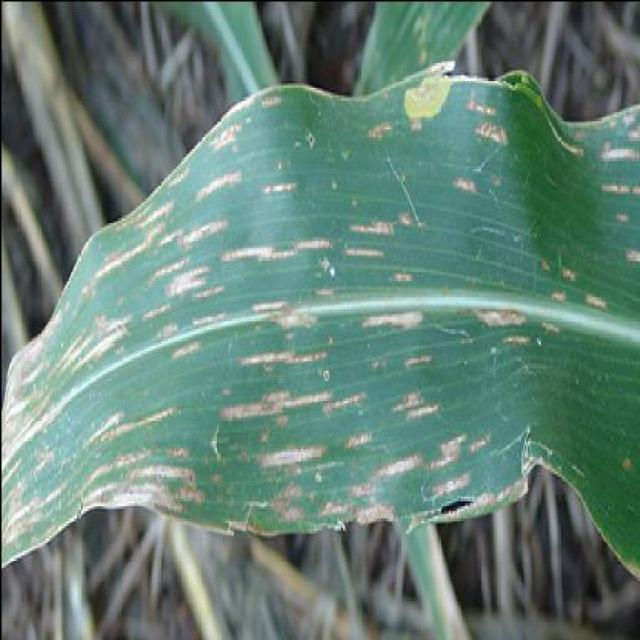Corn_Grey_Leaf_Spot: (0, 71, 640, 554)
